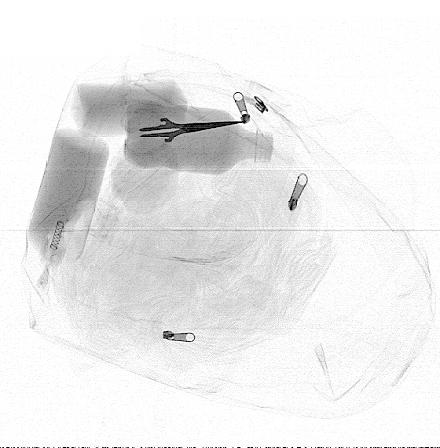Scissors: (119, 102, 247, 158)
